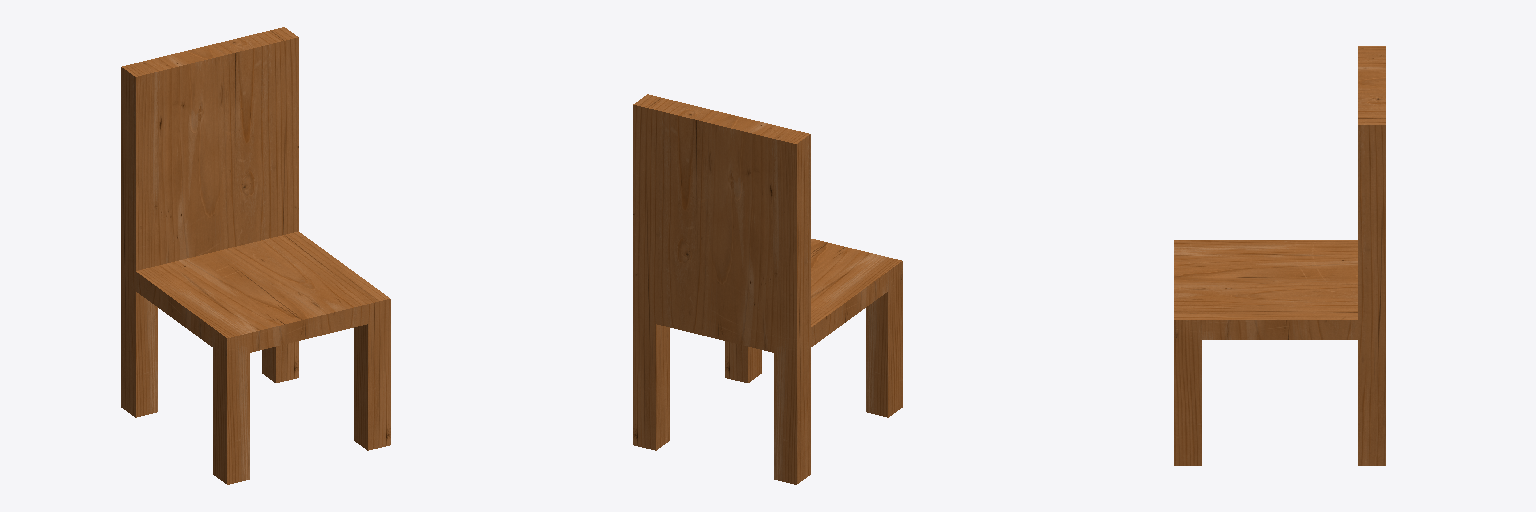
3 views of the same model, side by side, from view 1: azimuth 30°, elevation 25°; view 2: azimuth 150°, elevation 25°; view 3: azimuth 270°, elevation 25° (orthographic).
Visible parts, largest first — view 1: Cube; view 2: Cube; view 3: Cube.
Part boxes in pixels (x1,y1,x2,y2): Cube: (121, 27, 390, 484); Cube: (633, 94, 902, 484); Cube: (1174, 46, 1385, 465).
Size of the model in its own units: 0.5343 by 1.07 by 0.6019.
Materials: 1 (1 with a texture image).